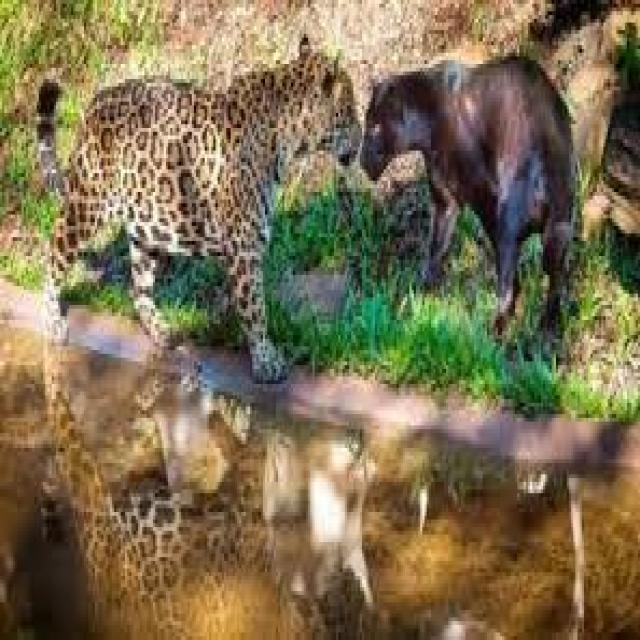Jaguar: (41, 26, 364, 362)
